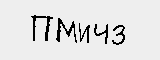З: (110, 23, 129, 45)
И: (79, 23, 93, 46)
М: (53, 17, 78, 44)
П: (27, 14, 53, 40)
Ч: (91, 22, 112, 44)
